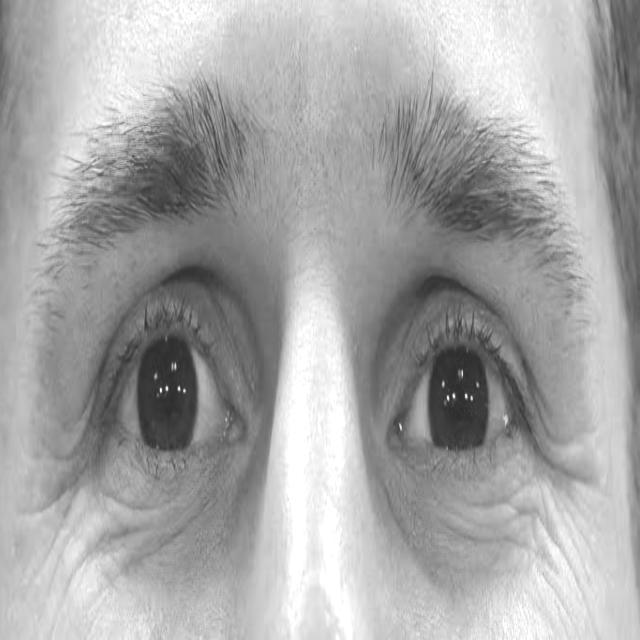real: (52, 64, 596, 632)
